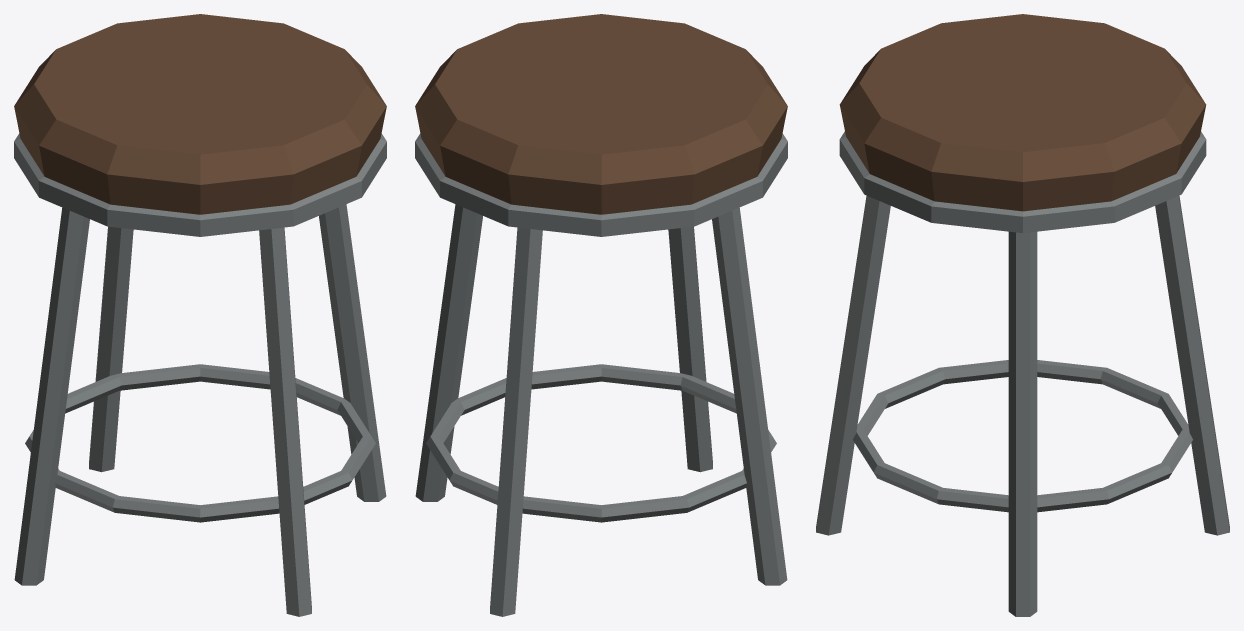
Rendered from SM_Props_Interior_House_Generic_Chair_01.fbx.
3 renders of one model, left to right at view 1: azimuth 30°, elevation 25°; view 2: azimuth 150°, elevation 25°; view 3: azimuth 270°, elevation 25°, orthographic.
Visible parts, largest first — view 1: SM_Props_Interior_House_Generic_Chair_01; view 2: SM_Props_Interior_House_Generic_Chair_01; view 3: SM_Props_Interior_House_Generic_Chair_01.
Part boxes in pixels (x1,y1,x2,y2): SM_Props_Interior_House_Generic_Chair_01: (14, 14, 386, 616); SM_Props_Interior_House_Generic_Chair_01: (415, 14, 787, 616); SM_Props_Interior_House_Generic_Chair_01: (816, 14, 1229, 616).
Size of the model in its own units: 36.13 by 43 by 36.13.
